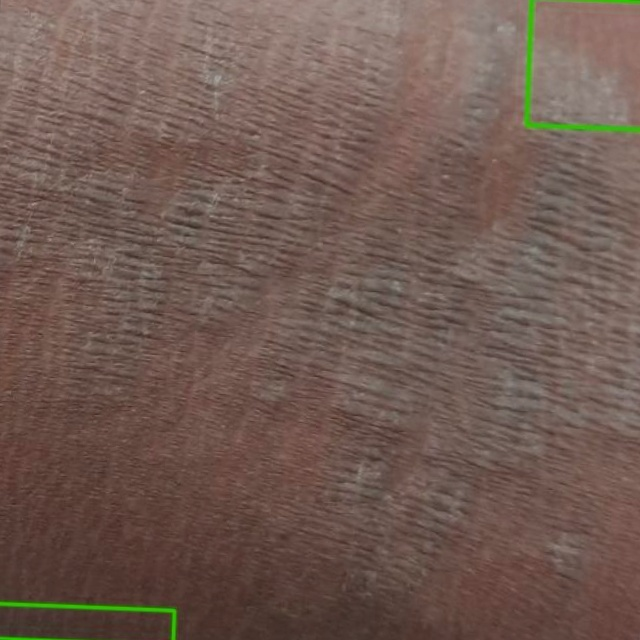Tinea Corporis: (526, 0, 639, 129), (0, 603, 174, 639)
